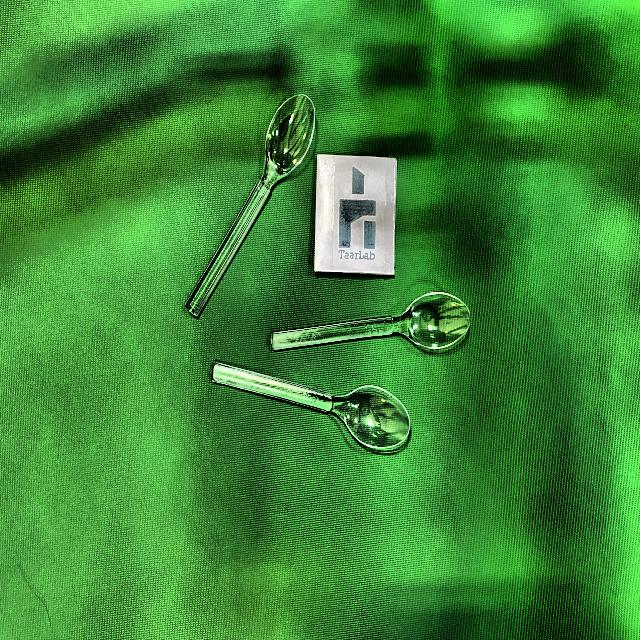plastic utensil: (186, 93, 315, 319), (212, 361, 414, 453), (272, 288, 475, 357)
